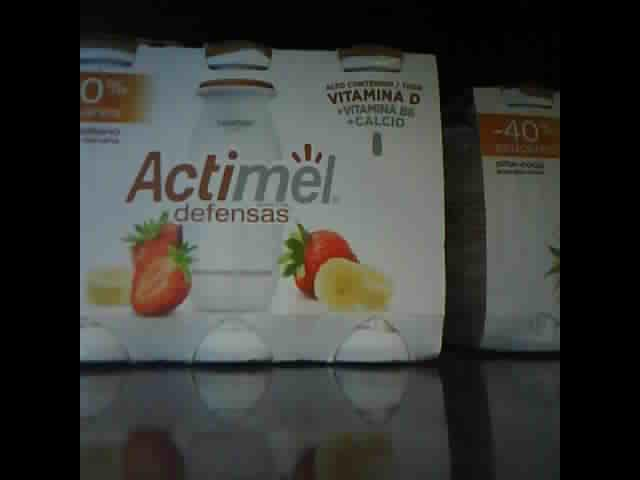actimel: (81, 35, 448, 364), (466, 81, 562, 356)
